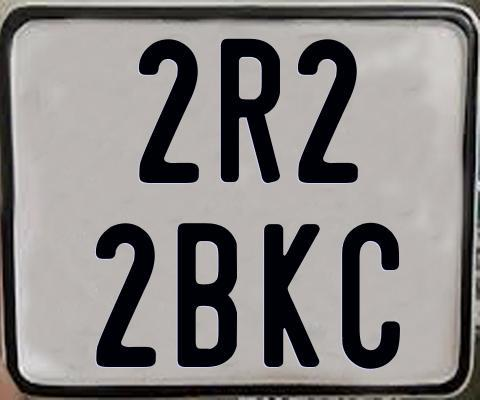2: (94, 223, 159, 371), (296, 37, 358, 187), (137, 38, 200, 185)
B: (176, 222, 237, 372)
C: (340, 222, 403, 368)
K: (262, 224, 319, 367)
R: (220, 38, 283, 188)
